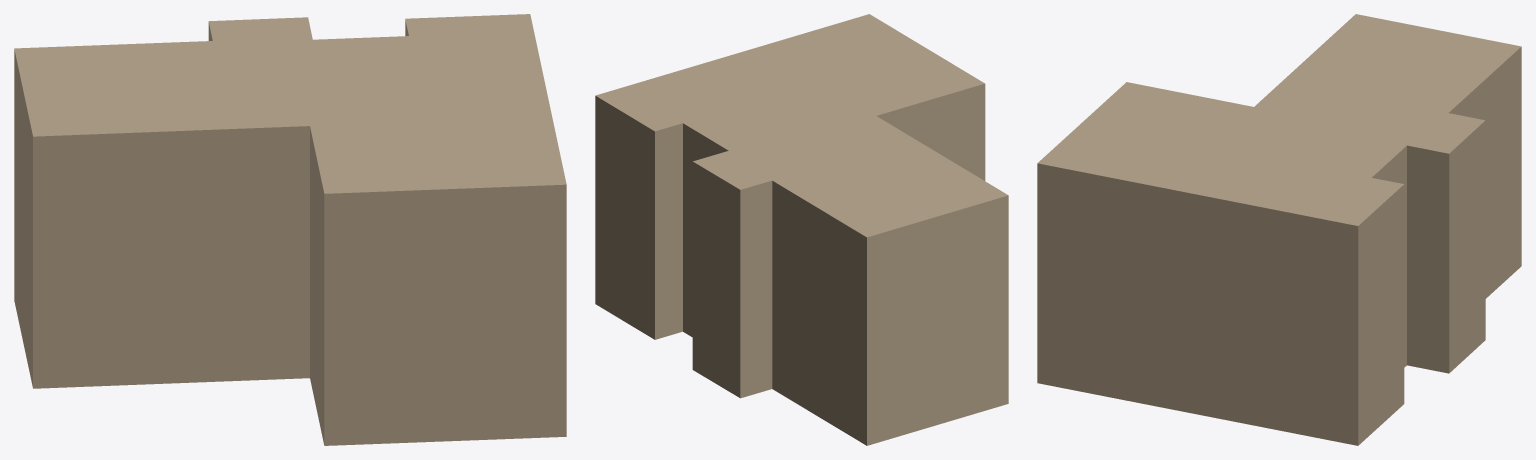
The model's file is bld_99520086.dae.
3 views of the same model, side by side, from view 1: azimuth 30°, elevation 25°; view 2: azimuth 150°, elevation 25°; view 3: azimuth 270°, elevation 25° (orthographic). The views are drawn at different scales.
Visible parts, largest first — view 1: bld_99520086; view 2: bld_99520086; view 3: bld_99520086.
Part boxes in pixels (bbox=[...]): bld_99520086: bbox=[14, 14, 566, 445]; bld_99520086: bbox=[595, 14, 1008, 445]; bld_99520086: bbox=[1037, 14, 1521, 445].
Size of the model in its own units: 16.55 by 15.97 by 8.
